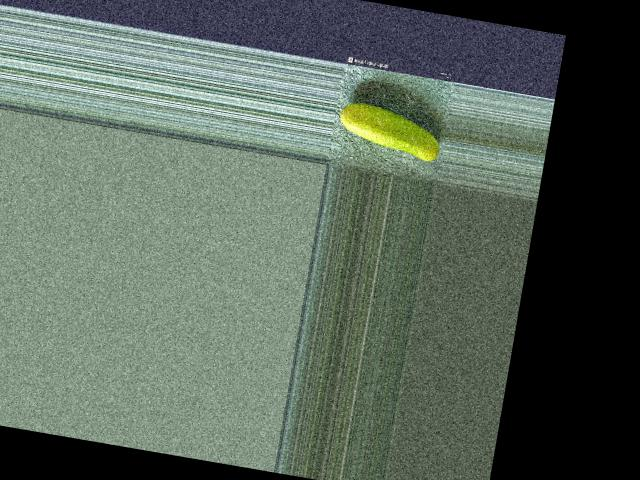cucumber: (335, 99, 445, 162)
